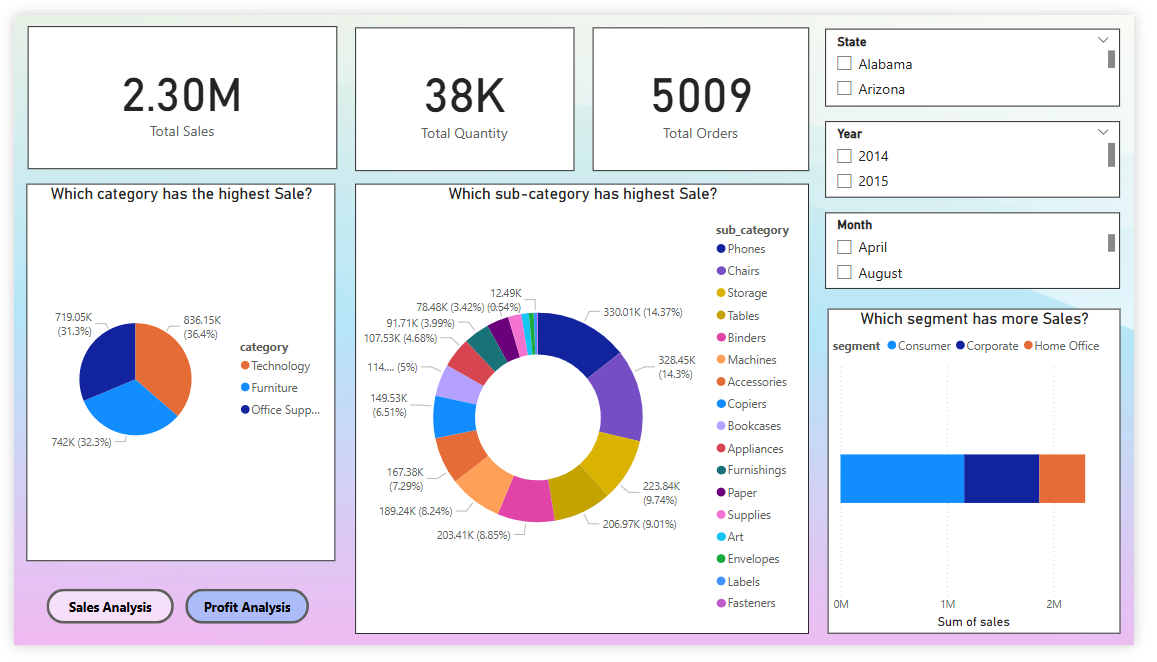

What the dashboard file says about the page in this screenshot:
{"tool":"powerbi","page":{"name":"Page 1","canvas":[1280,720],"ordinal":0},"visuals":[{"type":"donutChart","title":"Which sub-category has highest Sale?","fields":{"Category":["public superstore.sub_category"],"Y":["Sum(public superstore.sales)"]},"box":[390,192.9,518.6,514.3],"z":0},{"type":"pieChart","title":"Which category has the highest Sale?","fields":{"Category":["public superstore.category"],"Y":["Sum(public superstore.sales)"]},"box":[14.3,192.9,352.9,431.4],"z":1000},{"type":"barChart","title":"Which segment has more Sales?","fields":{"Series":["public superstore.segment"],"Y":["Sum(public superstore.sales)"]},"box":[930,335.7,334.3,371.4],"z":2000},{"type":"card","fields":{"Values":["public superstore.Total Sales"]},"box":[15,13.3,353.3,163.3],"z":3000},{"type":"card","fields":{"Values":["public superstore.Total Orders"]},"box":[661.4,14.3,247.1,164.3],"z":4000},{"type":"slicer","fields":{"Values":["public superstore.Year"]},"box":[926.6,121.4,337.1,87.1],"z":5000},{"type":"slicer","fields":{"Values":["public superstore.state"]},"box":[926.6,15.4,337.1,88.6],"z":6000},{"type":"card","fields":{"Values":["public superstore.Total Quantity"]},"box":[390,14.3,250,164.3],"z":7000},{"type":"slicer","fields":{"Values":["public superstore.Month"]},"box":[926.6,225.7,337.1,87.1],"z":8000},{"type":"actionButton","box":[196.3,656,141.4,40],"z":8001},{"type":"actionButton","box":[37.7,656,145.7,40],"z":8002}]}

Visuals, with their boxes in screenshot pixels (x1, y1, x2, y2), scaled from the page's 1280x720 canvas onto the 1157x662 screenshot:
"Which sub-category has highest Sale?" donutChart: <bbox>353, 177, 821, 650</bbox>
"Which category has the highest Sale?" pieChart: <bbox>13, 177, 332, 574</bbox>
"Which segment has more Sales?" barChart: <bbox>841, 309, 1143, 650</bbox>
card - public superstore.Total Sales: <bbox>14, 12, 333, 162</bbox>
card - public superstore.Total Orders: <bbox>598, 13, 821, 164</bbox>
slicer - public superstore.Year: <bbox>838, 112, 1142, 192</bbox>
slicer - public superstore.state: <bbox>838, 14, 1142, 96</bbox>
card - public superstore.Total Quantity: <bbox>353, 13, 578, 164</bbox>
slicer - public superstore.Month: <bbox>838, 208, 1142, 288</bbox>
actionButton: <bbox>177, 603, 305, 640</bbox>
actionButton: <bbox>34, 603, 166, 640</bbox>
